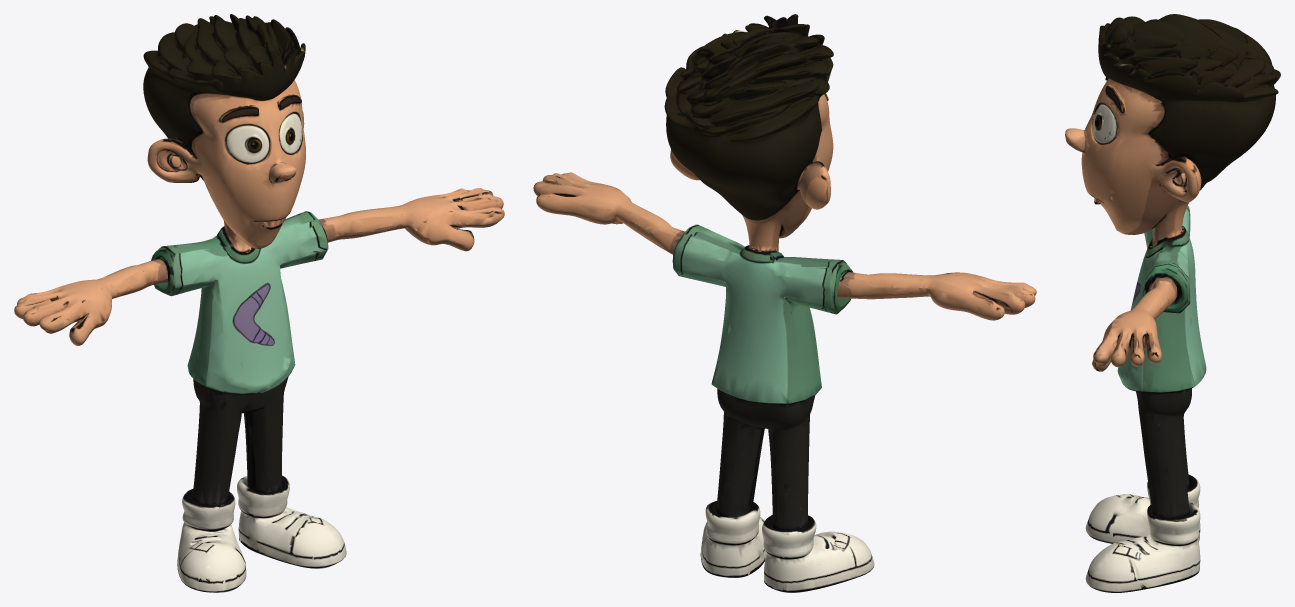
File: sheen.obj
The picture shows the model from 3 angles, left to right: view 1: azimuth 30°, elevation 25°; view 2: azimuth 150°, elevation 25°; view 3: azimuth 270°, elevation 25°; orthographic projection. The views are drawn at different scales.
Visible parts, largest first — view 1: node_0; view 2: node_0; view 3: node_0.
Part boxes in pixels (box(x1,y1,x2,y2)): node_0: box(14, 14, 504, 592); node_0: box(533, 14, 1036, 592); node_0: box(1065, 14, 1280, 592).
Bounding box in the file's own units: 1.08 × 1.13 × 0.4135.
